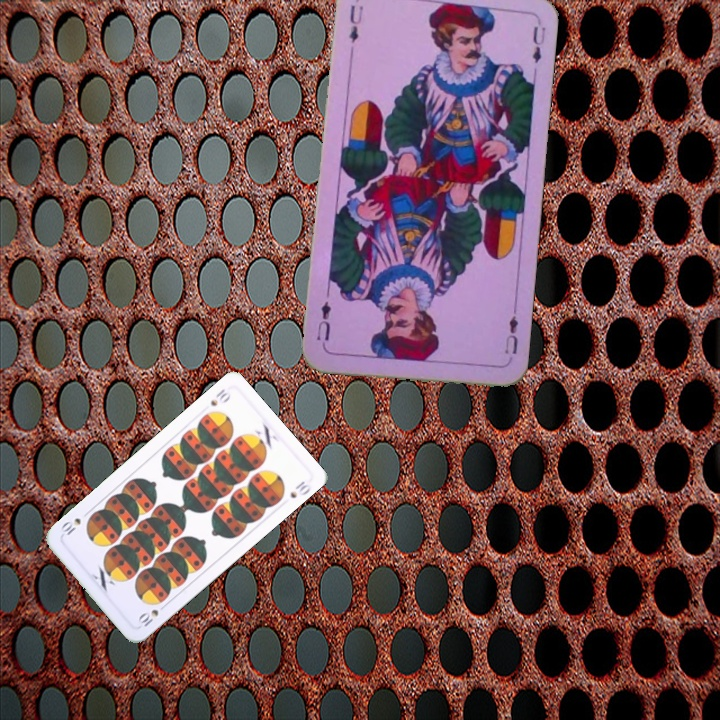EU: (501, 304, 521, 357), (345, 1, 365, 45)
S10: (134, 599, 170, 631), (206, 385, 234, 409)
